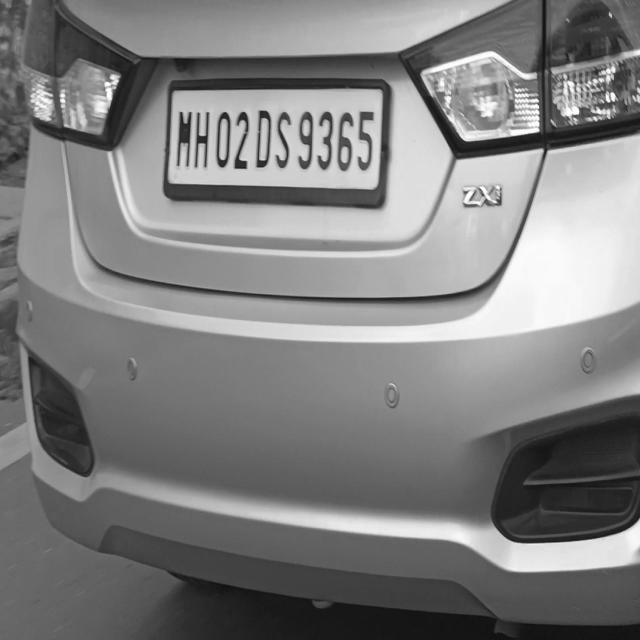license-plate: (166, 82, 391, 207)
